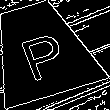P_N: (11, 21, 70, 80)
